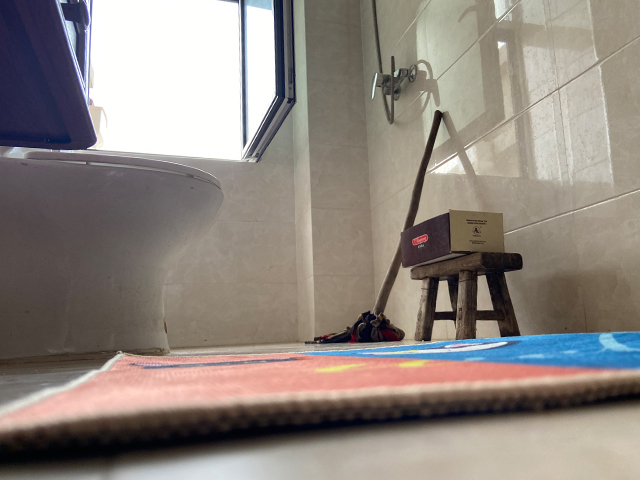carpet: (1, 332, 640, 470)
closestool: (1, 145, 226, 366)
stool: (408, 252, 524, 342)
